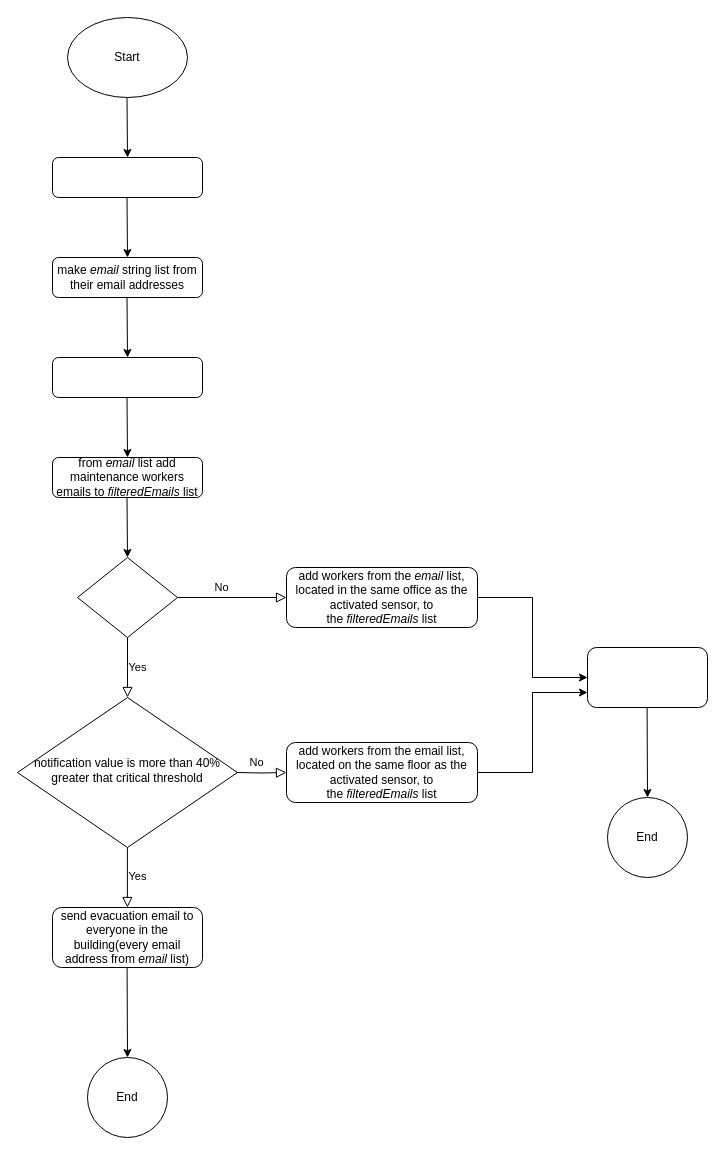
This 725x1155 diagram has some shape labels left out. The box of each missing label's shape, as (x1, y1, x2, y2) in pixels:
get all employees currently inside the building: (52, 156, 202, 198)
make empty list filteredEmails: (52, 356, 202, 398)
notification level is critical: (76, 556, 178, 638)
send warning emails to all email addresses in filteredEmails list: (586, 646, 708, 708)
